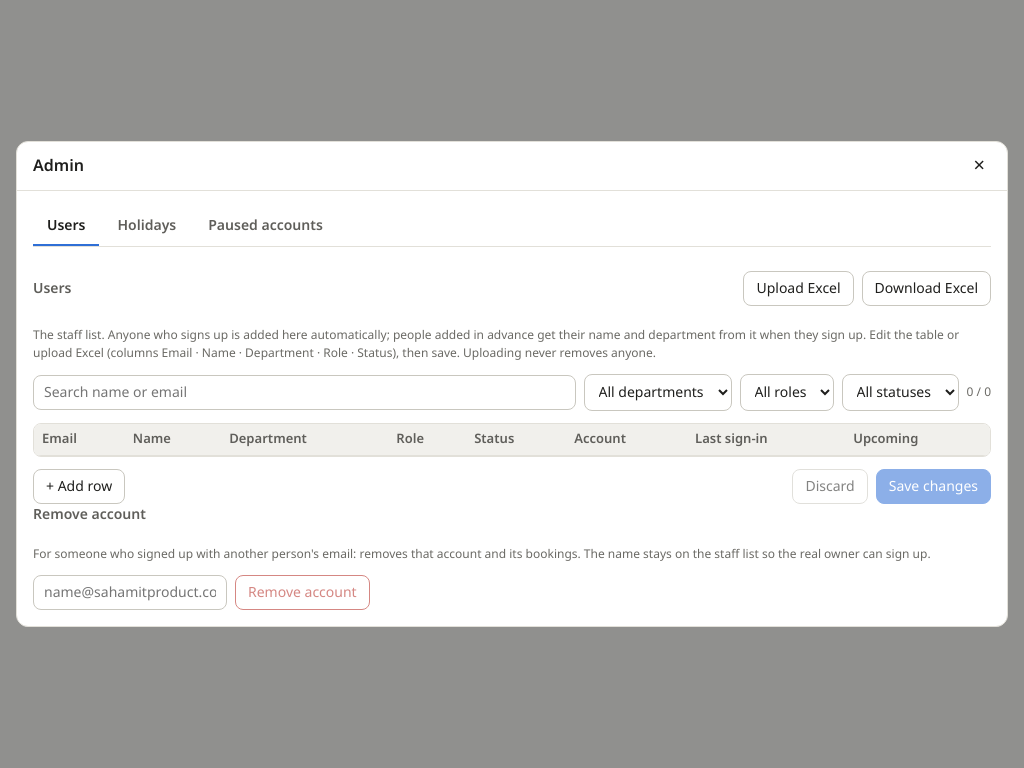
Test: AdminPanel holiday table › the Year filter shows one year at a time
Click the tab "Holidays" at (147,226), box [104,207,190,246]
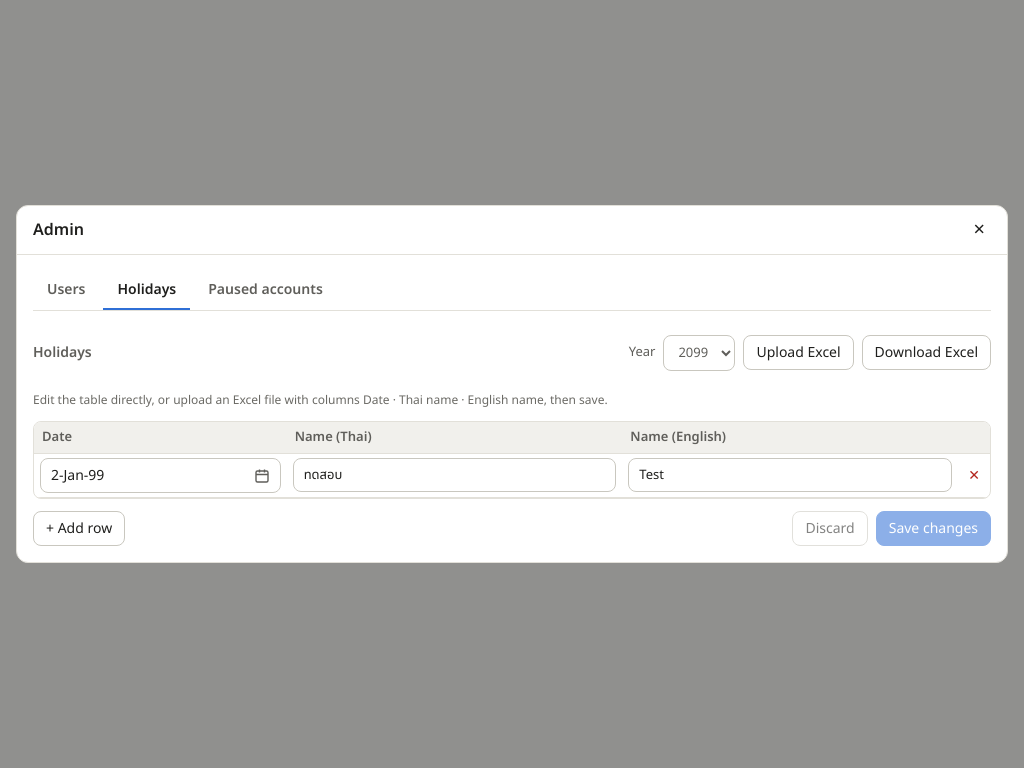
expect the field showing "Next year" is not shown: met
expect the field showing "Test" is shown: met, box [628,458,952,492]
Select "2100" in the dropdown labelled "Year" at (699,353), box [663,335,735,371]
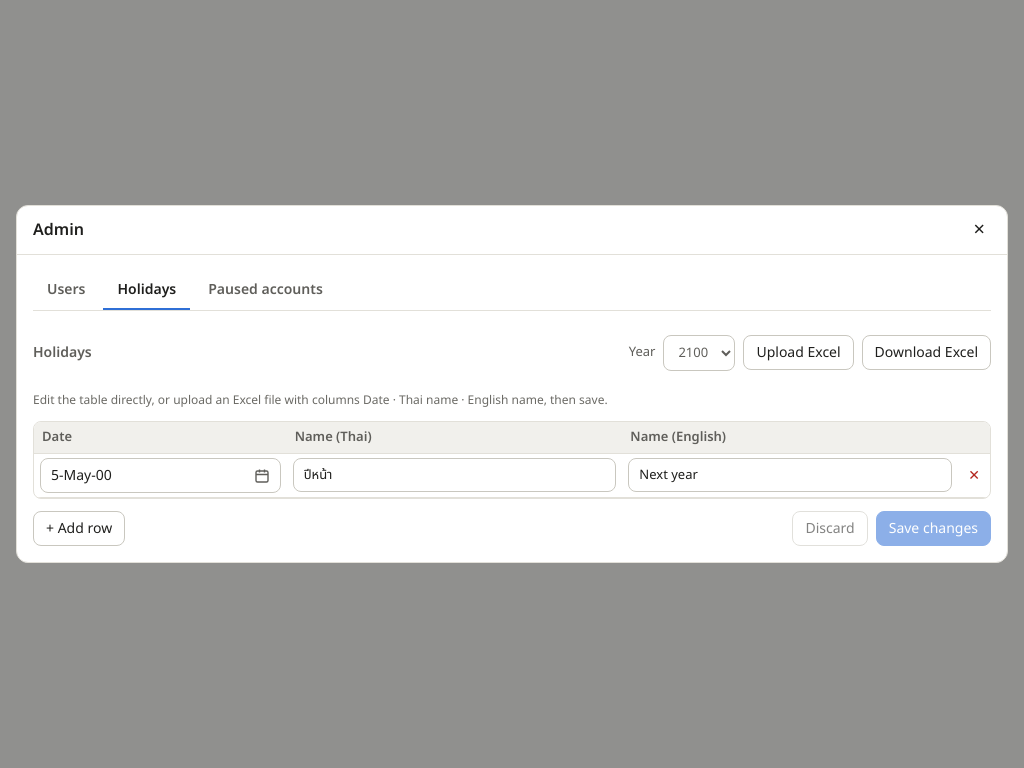
expect the field showing "Test" is not shown: met
expect the field showing "Next year" is shown: met, box [628,458,952,492]
